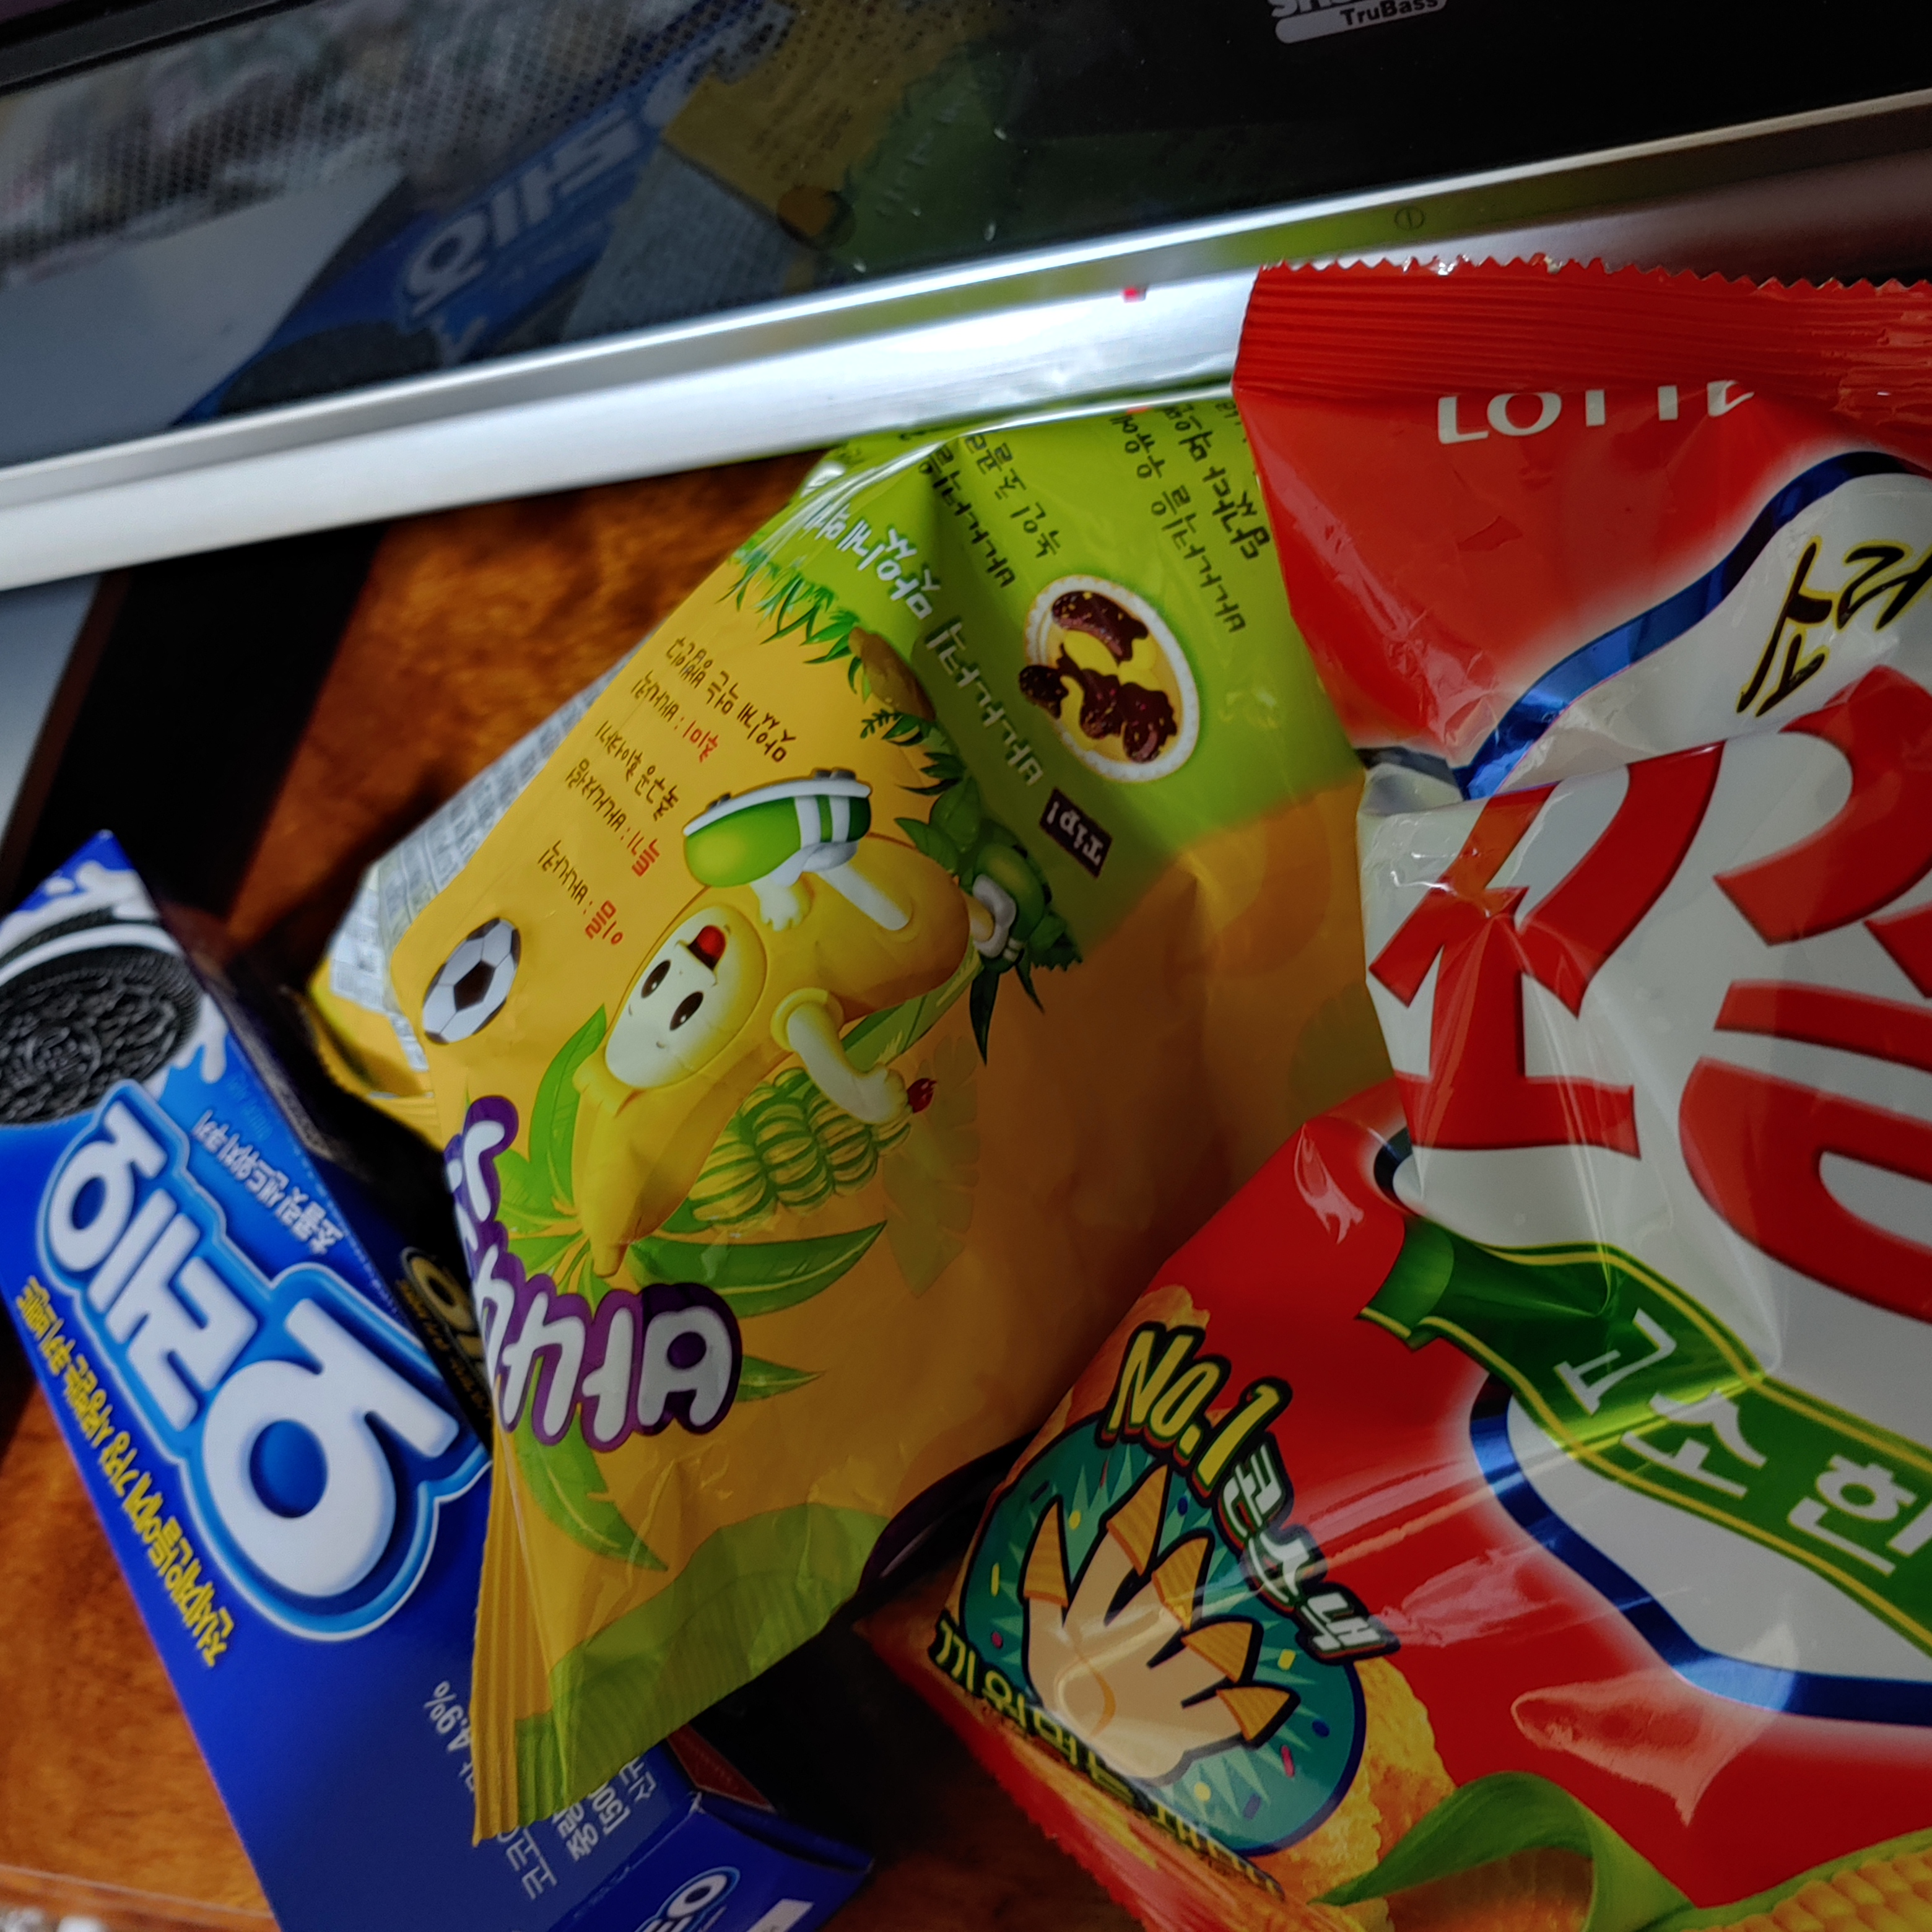banana: (191, 439, 1362, 1815)
ggoggalcon: (984, 202, 1928, 1932)
oreo: (4, 784, 817, 1932)
